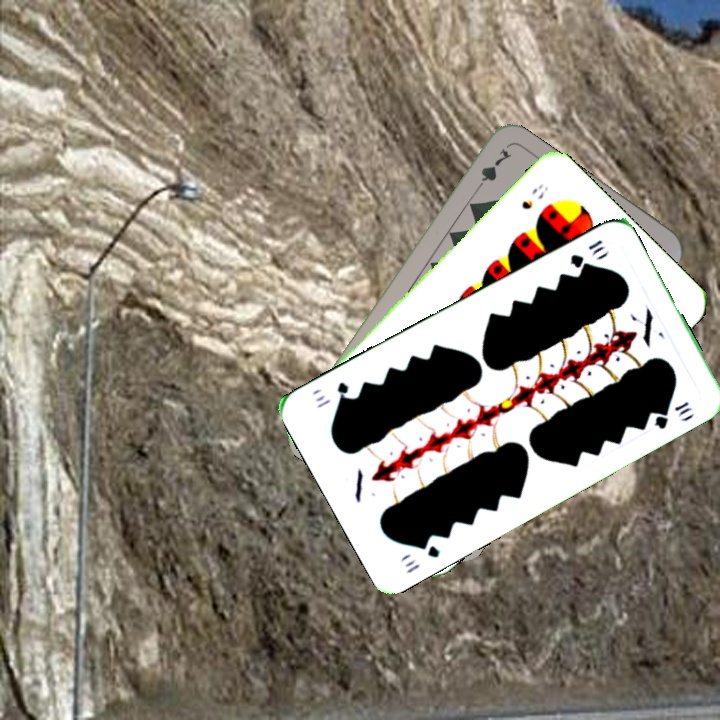G10: (400, 536, 443, 577), (566, 235, 608, 271)
G7: (469, 145, 515, 196)
S8: (517, 179, 551, 213)
